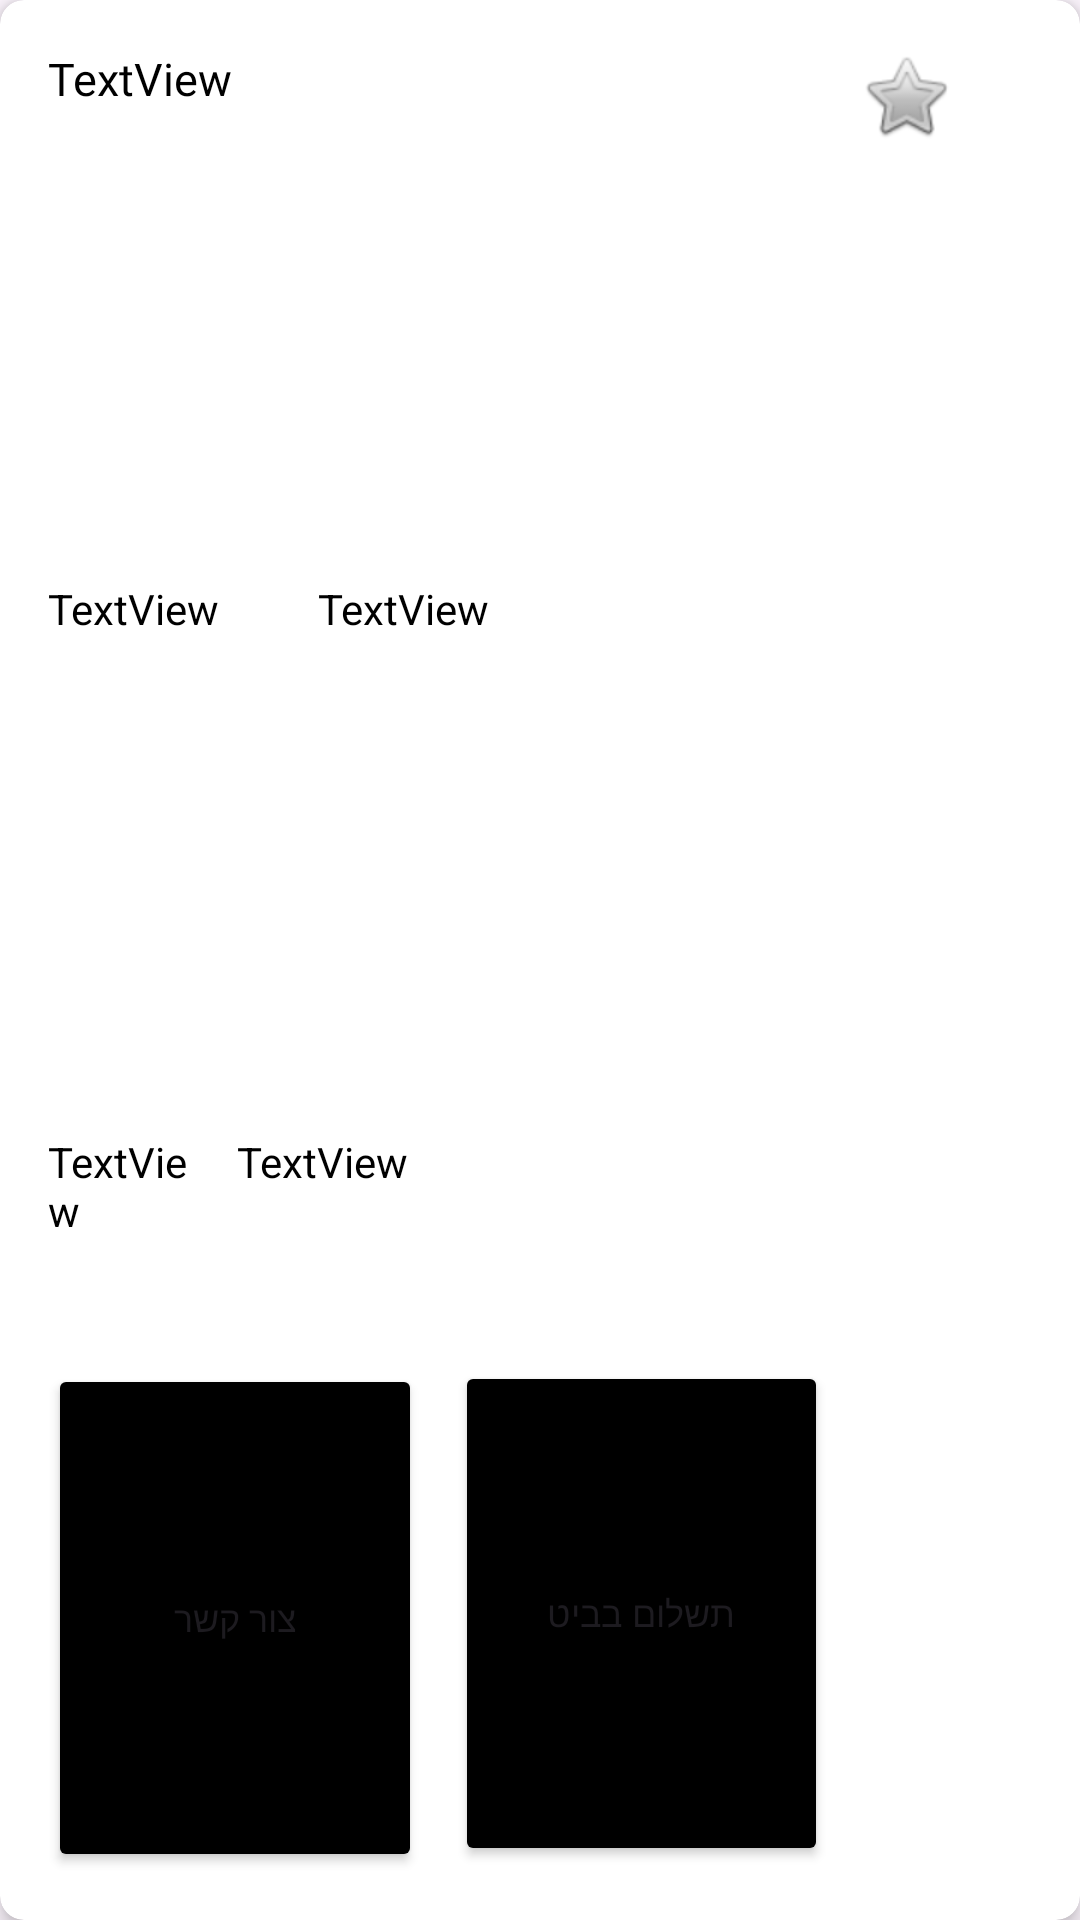

Named icons in this screenshot (1080w x 1920h) and their bounding boxes, [left=x1, top=y1, right=x2, bottom=y2]:
star off: [left=867, top=58, right=947, bottom=136]
